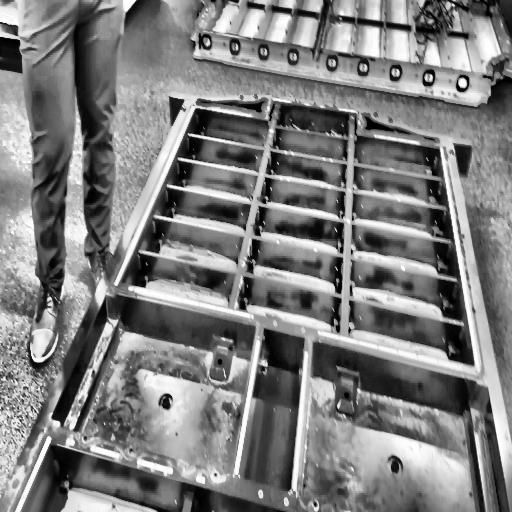b_casing: (0, 89, 512, 512)
